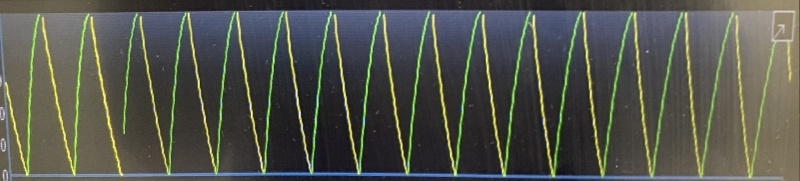normal_volume: (5, 7, 759, 180)
